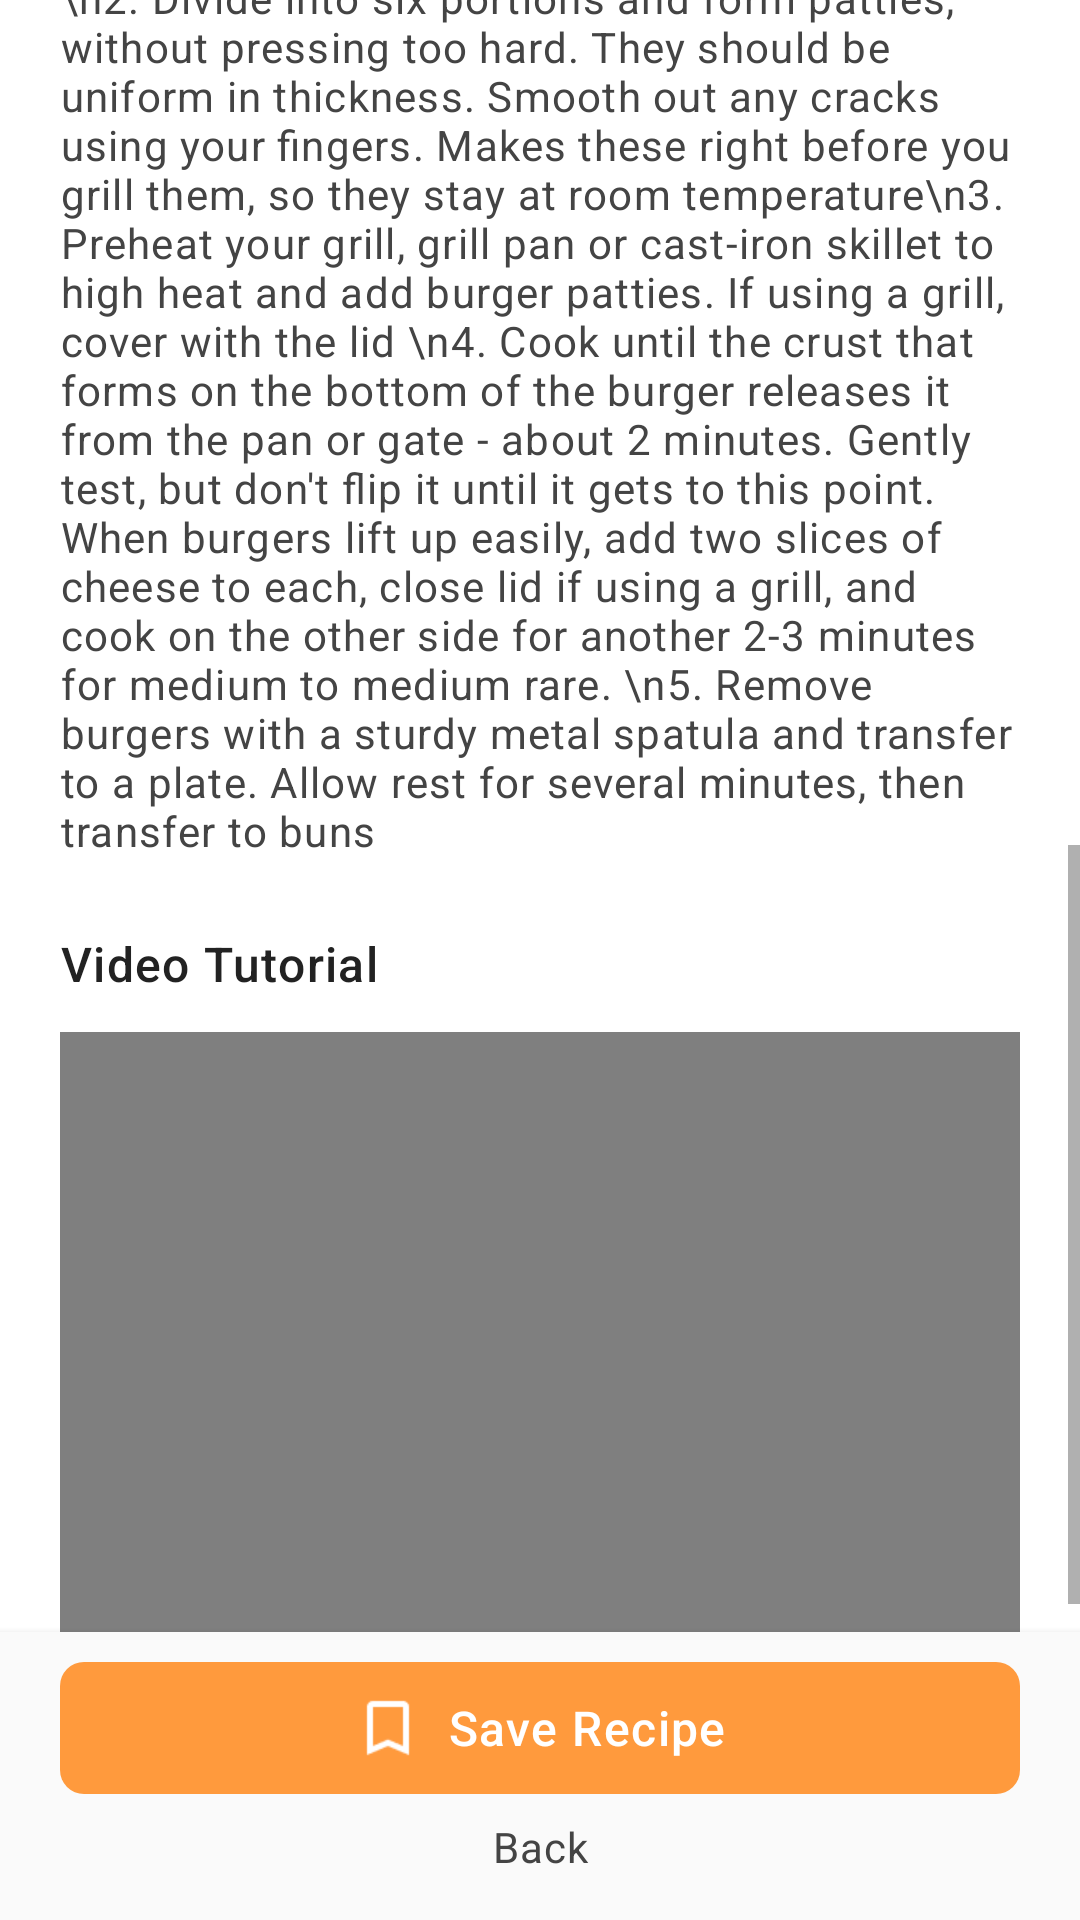

Named icons in this screenshot (1080px x 1920px) and their centers, (x,y):
bookmark: (388,1727)
